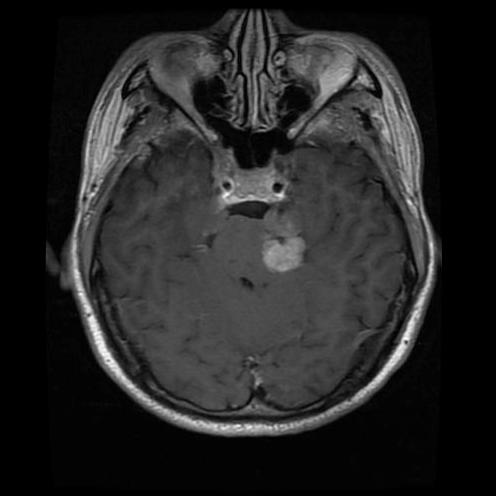Tumour-Pituitary: (231, 221, 332, 293)
